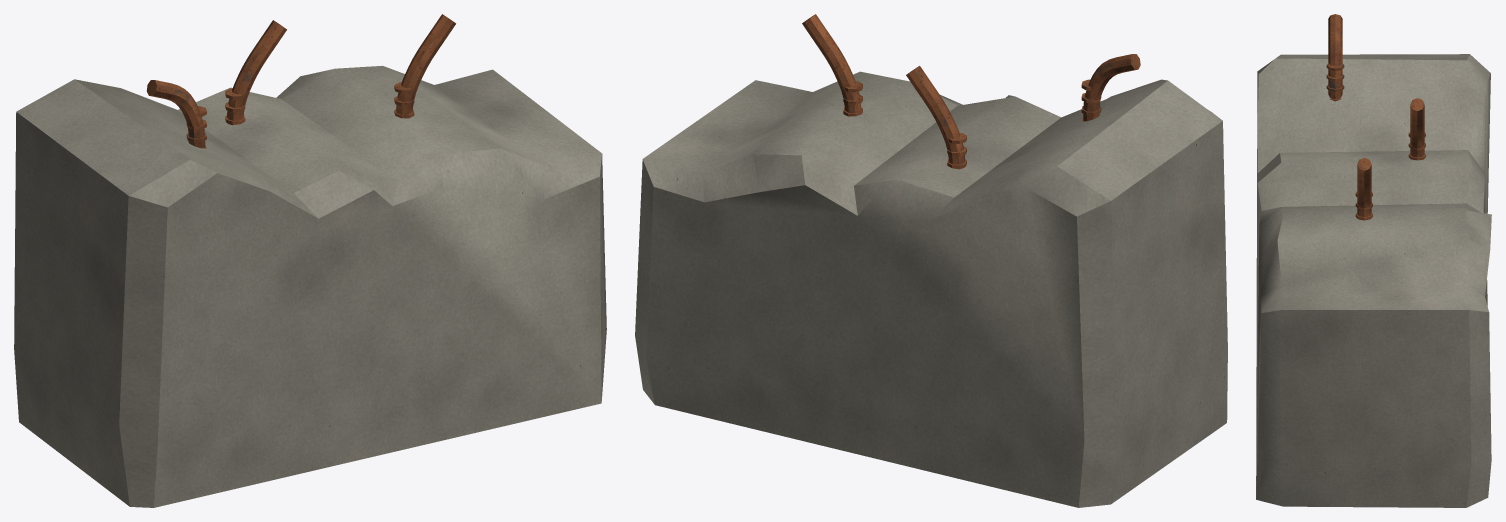
Rendered from broken_concrete_large.glb.
3 views of the same model, side by side, from view 1: azimuth 30°, elevation 25°; view 2: azimuth 150°, elevation 25°; view 3: azimuth 270°, elevation 25° (orthographic). The views are drawn at different scales.
Parts seen in each view (by area): view 1: BrokenConcreteLargeBody; view 2: BrokenConcreteLargeBody; view 3: BrokenConcreteLargeBody.
Part boxes in pixels (x1,y1,x2,y2): BrokenConcreteLargeBody: (14,14,606,507); BrokenConcreteLargeBody: (635,14,1227,507); BrokenConcreteLargeBody: (1256,14,1491,507).
Size of the model in its own units: 0.9822 by 0.7388 by 0.489.
2 materials, 2 textured.
